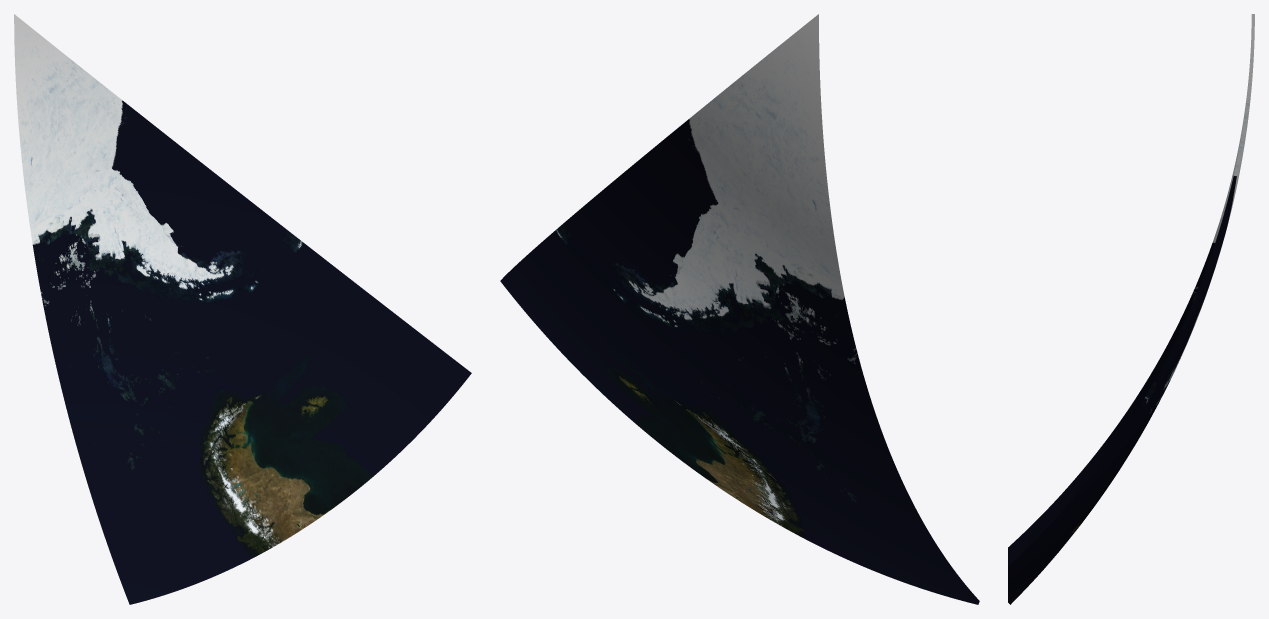
3 views of the same model, side by side, from view 1: azimuth 30°, elevation 25°; view 2: azimuth 150°, elevation 25°; view 3: azimuth 270°, elevation 25° (orthographic). The views are drawn at different scales.
Parts seen in each view (by area): view 1: DefaultName.003, DefaultName.001, DefaultName.005, DefaultName.007; view 2: DefaultName.001, DefaultName.003, DefaultName.007, DefaultName.005; view 3: DefaultName.003, DefaultName.001, DefaultName.005, DefaultName.007.
Boxes of the visible parts, box(x1,y1,x2,y2) form: DefaultName.003: box(145, 185, 471, 520); DefaultName.001: box(44, 265, 314, 604); DefaultName.005: box(16, 15, 229, 264); DefaultName.007: box(14, 14, 144, 310); DefaultName.001: box(706, 305, 979, 604); DefaultName.003: box(500, 193, 719, 487); DefaultName.007: box(718, 14, 860, 367); DefaultName.005: box(600, 16, 816, 304); DefaultName.003: box(1008, 314, 1191, 604); DefaultName.001: box(1008, 303, 1188, 566); DefaultName.005: box(1188, 14, 1254, 333); DefaultName.007: box(1188, 28, 1251, 312).
Bounding box in the file's own units: 31944 × 45176 × 18870.
Materials: 4 (4 with a texture image).
